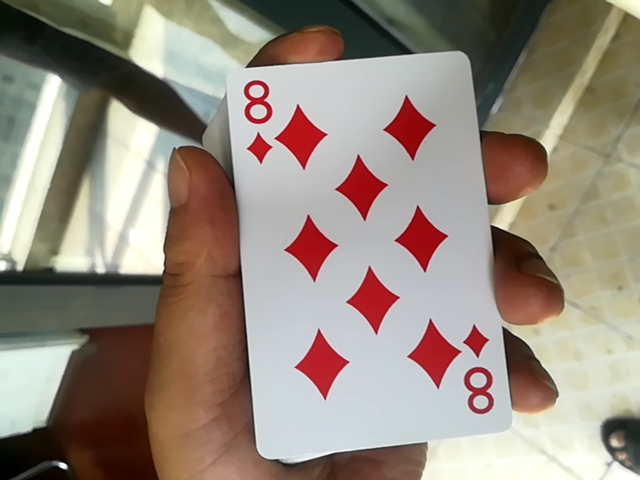fk 8: (205, 49, 496, 453)
